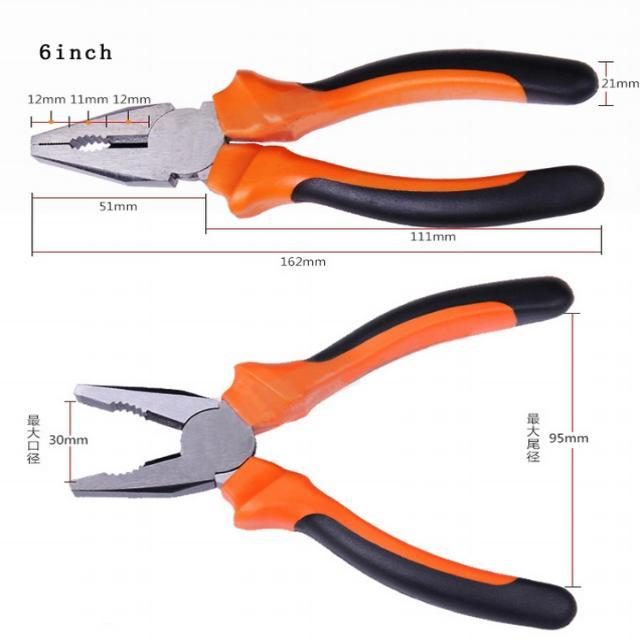pliers: (64, 267, 591, 635), (26, 32, 607, 232)
